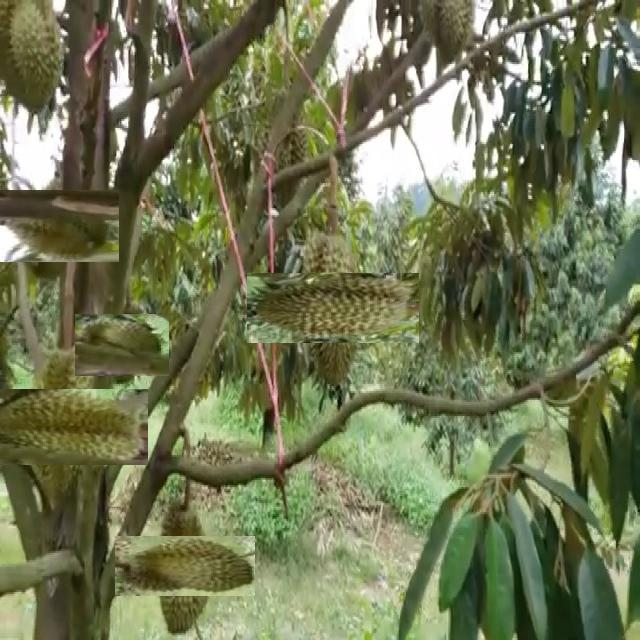durian: (0, 364, 123, 489), (272, 248, 393, 369), (2, 175, 105, 276), (135, 516, 236, 616), (2, 0, 67, 120), (83, 306, 162, 384)
